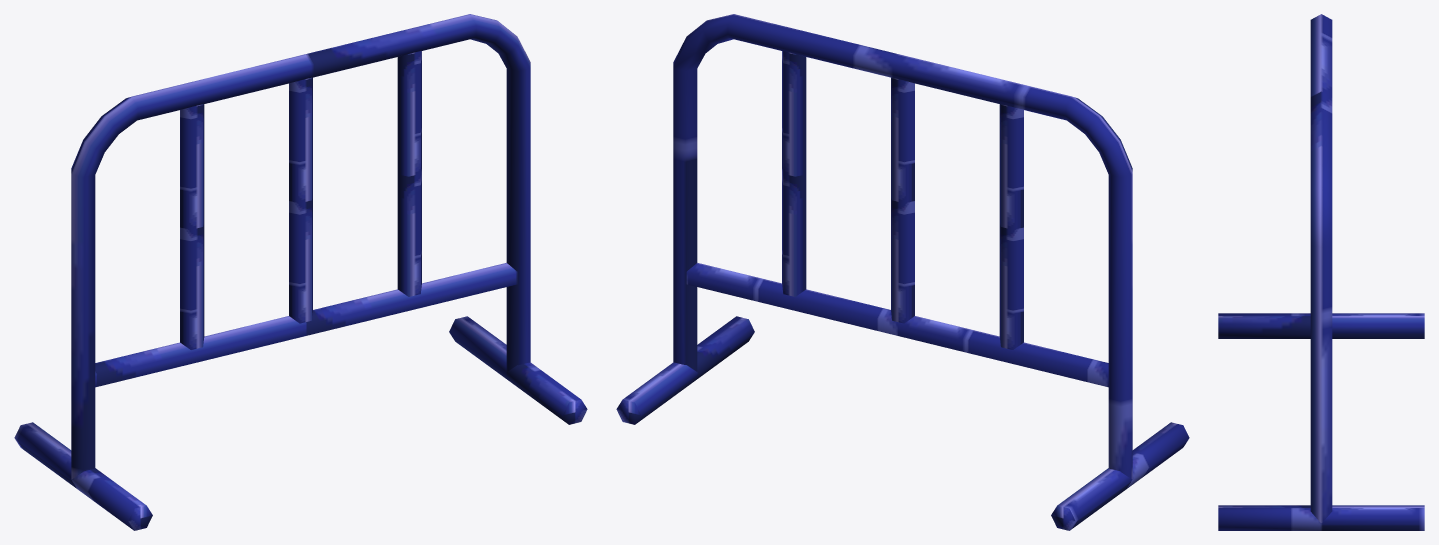
Rendered from int_wrs_barricade.dae.
3 renders of one model, left to right at view 1: azimuth 30°, elevation 25°; view 2: azimuth 150°, elevation 25°; view 3: azimuth 270°, elevation 25°, orthographic. The views are drawn at different scales.
Parts seen in each view (by area): view 1: int_wrs_barricade; view 2: int_wrs_barricade; view 3: int_wrs_barricade.
Boxes of the visible parts, bbox=[...] form: int_wrs_barricade: bbox=[14, 14, 587, 530]; int_wrs_barricade: bbox=[616, 14, 1189, 530]; int_wrs_barricade: bbox=[1218, 14, 1424, 530].
Bounding box in the file's own units: 30.43 × 24.02 × 13.06.
1 material, 1 textured.
